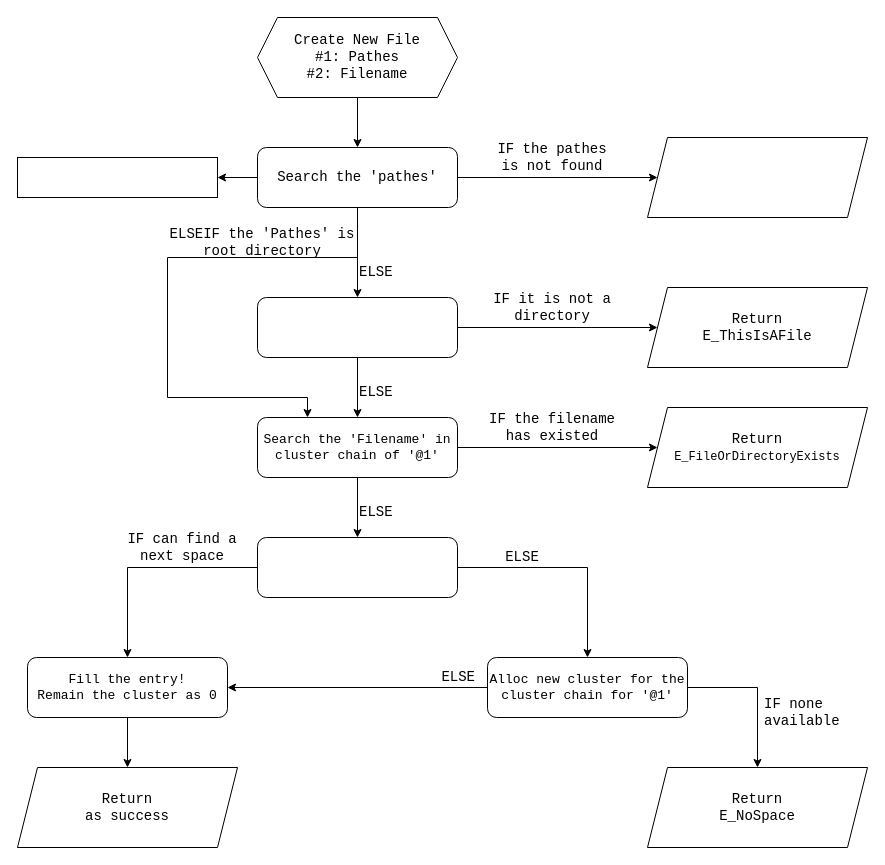
Image size: 885x865. Some labels were removed from this diagram. The box of each missing label's shape, as (x1, y1, x2, y2) in pixels:
@1: 'Pathes[-1]' cluster number: (16, 156, 218, 198)
Check type of 'Pathes[-1]': (256, 296, 458, 358)
Return E_FileOrDirectoryNotFound: (646, 136, 868, 218)
Search the next space in cluster chain of '@1': (256, 536, 458, 598)
